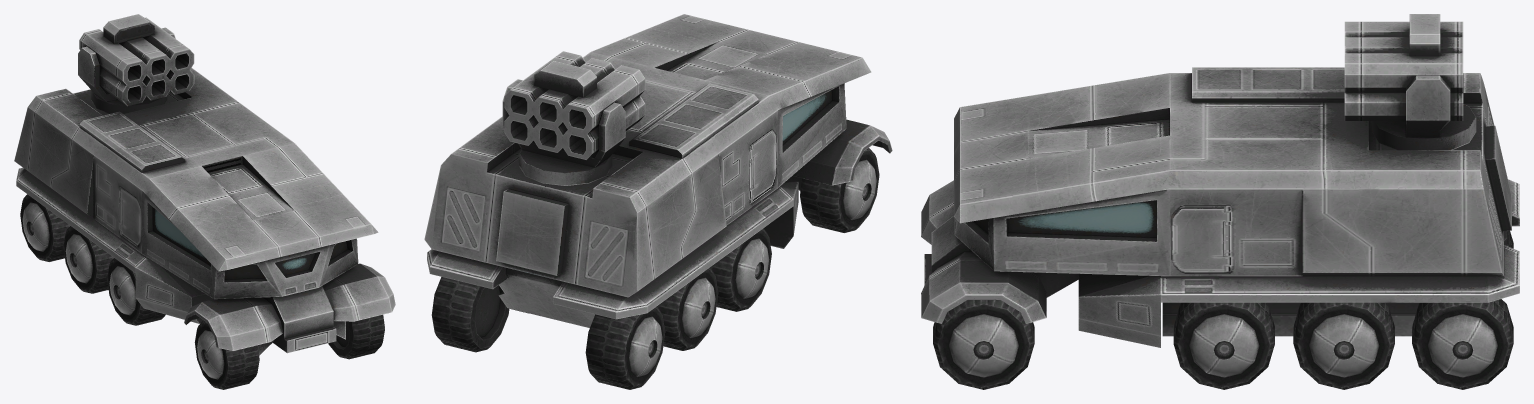
Rendered from Packrat.fbx.
The picture shows the model from 3 angles, left to right: view 1: azimuth 30°, elevation 25°; view 2: azimuth 150°, elevation 25°; view 3: azimuth 270°, elevation 25°; orthographic projection. The views are drawn at different scales.
Parts seen in each view (by area): view 1: body, launcher_1, wheel5, wheel7, wheel8, wheel6, turret_1, wheel1; view 2: body, launcher_1, wheel8, wheel4, turret_1, wheel5, wheel6, wheel7; view 3: body, launcher_1, wheel4, wheel3, wheel2, wheel1, turret_1.
Boxes of the visible parts, x1=… form: body: x1=14, y1=67, x2=395, y2=355; launcher_1: x1=79, y1=14, x2=194, y2=106; wheel5: x1=194, y1=320, x2=259, y2=389; wheel7: x1=63, y1=226, x2=113, y2=293; wheel8: x1=20, y1=194, x2=70, y2=261; wheel6: x1=107, y1=258, x2=165, y2=325; turret_1: x1=78, y1=27, x2=175, y2=113; wheel1: x1=328, y1=314, x2=384, y2=359; body: x1=424, y1=14, x2=892, y2=327; launcher_1: x1=504, y1=51, x2=645, y2=159; wheel8: x1=585, y1=306, x2=665, y2=389; wheel4: x1=431, y1=277, x2=509, y2=352; turret_1: x1=502, y1=79, x2=625, y2=185; wheel5: x1=800, y1=148, x2=879, y2=232; wheel6: x1=710, y1=228, x2=771, y2=311; wheel7: x1=657, y1=268, x2=718, y2=350; body: x1=921, y1=67, x2=1519, y2=347; launcher_1: x1=1344, y1=14, x2=1463, y2=120; wheel4: x1=1412, y1=299, x2=1513, y2=389; wheel3: x1=1293, y1=302, x2=1394, y2=389; wheel2: x1=1173, y1=302, x2=1274, y2=389; wheel1: x1=933, y1=300, x2=1034, y2=389; turret_1: x1=1372, y1=75, x2=1476, y2=150.
Bounding box in the file's own units: 13.15 × 16.08 × 27.67.
1 material, 1 textured.
